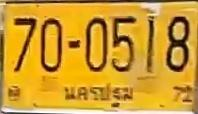0: (40, 17, 62, 71), (84, 17, 106, 70)
1: (145, 16, 155, 72)
5: (110, 15, 136, 71)
7: (13, 17, 36, 72)
8: (166, 15, 190, 72)
NPT: (60, 79, 136, 109)
